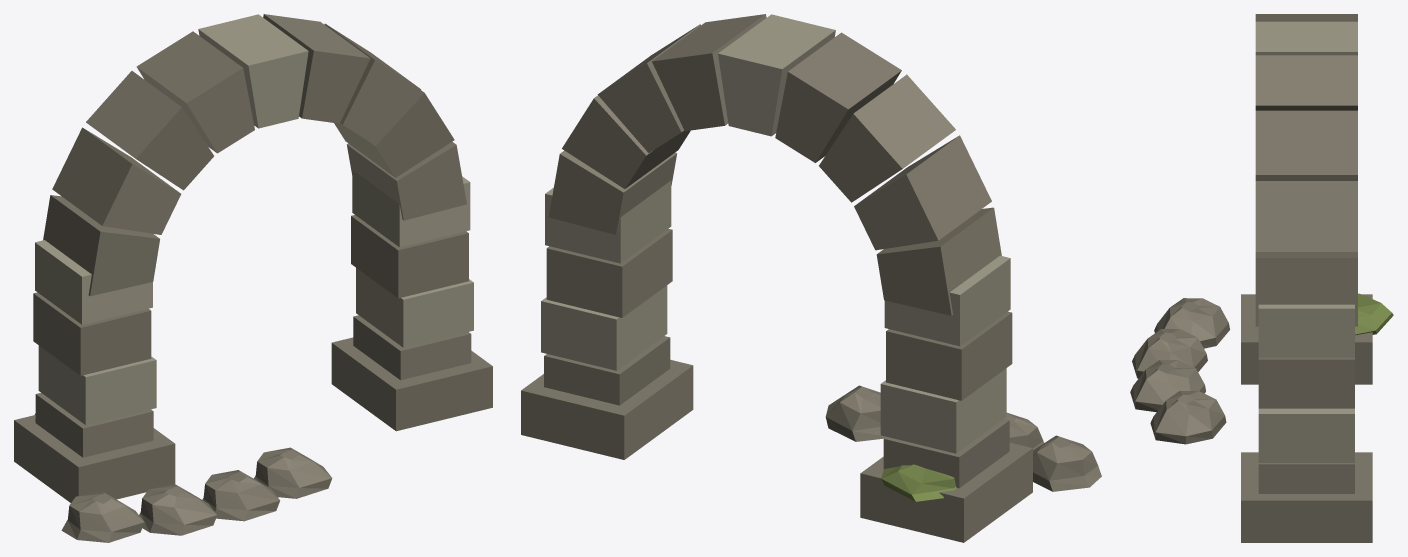
Rendered from ruined-arch.glb.
3 renders of one model, left to right at view 1: azimuth 30°, elevation 25°; view 2: azimuth 150°, elevation 25°; view 3: azimuth 270°, elevation 25°, orthographic. The views are drawn at different scales.
Visible parts, largest first — view 1: ruined-arch; view 2: ruined-arch; view 3: ruined-arch.
Boxes of the visible parts, left/top/right/bottom form: ruined-arch: left=14, top=14, right=492, bottom=542; ruined-arch: left=521, top=14, right=1101, bottom=542; ruined-arch: left=1130, top=14, right=1393, bottom=542.
Bounding box in the file's own units: 3.62 × 3.04 × 1.8.
